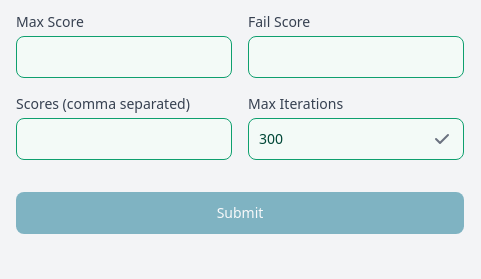
Test: KMeansFormAndResult › Input fields interactions › displays validation error when Max Score is missing
Type "111" into the field labelled "Max Score".
click(124, 57); type("111")  # box x1=16 y1=36 x2=232 y2=78
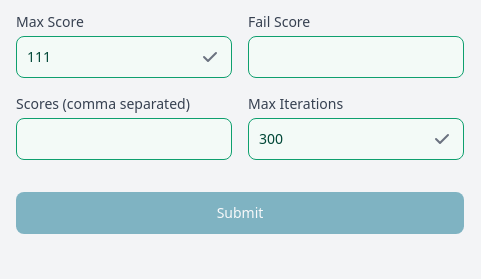
Type "22" into the field labelled "Fail Score".
click(356, 57); type("22")  # box x1=248 y1=36 x2=464 y2=78
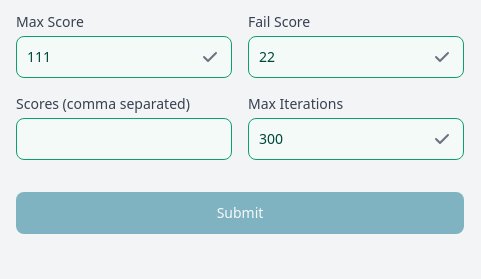
Type "11,22,33,44,55,66" into the field labelled "Scores (comma separated)".
click(124, 139); type("11,22,33,44,55,66")  # box x1=16 y1=118 x2=232 y2=160
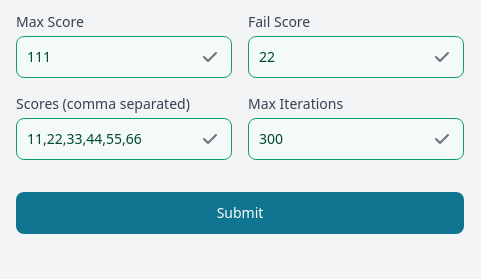
Clear the field labelled "Max Score" at (124, 57), box x1=16 y1=36 x2=232 y2=78
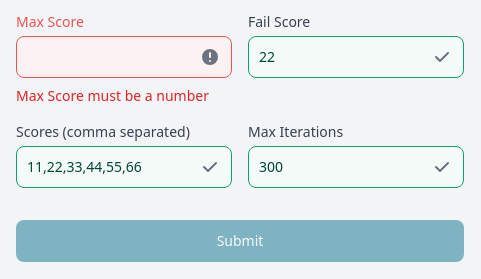
expect the text "Max Score must be a number" is shown: met, box x1=16 y1=86 x2=232 y2=106
